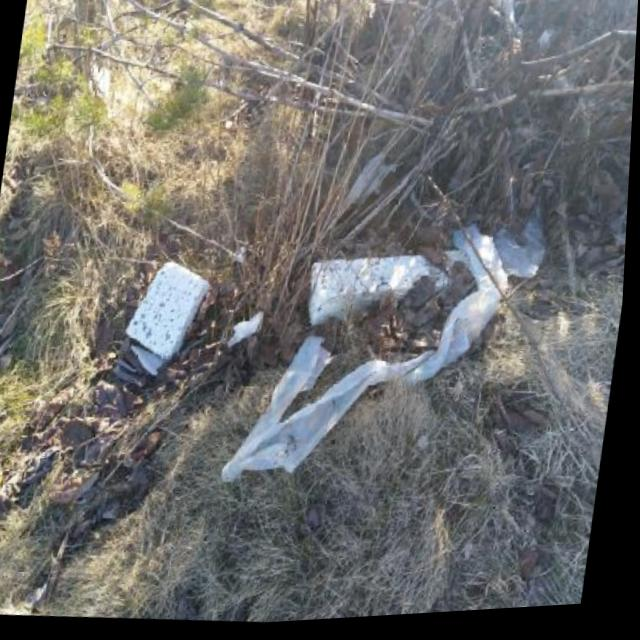foam: (301, 235, 491, 341), (121, 255, 214, 365)
